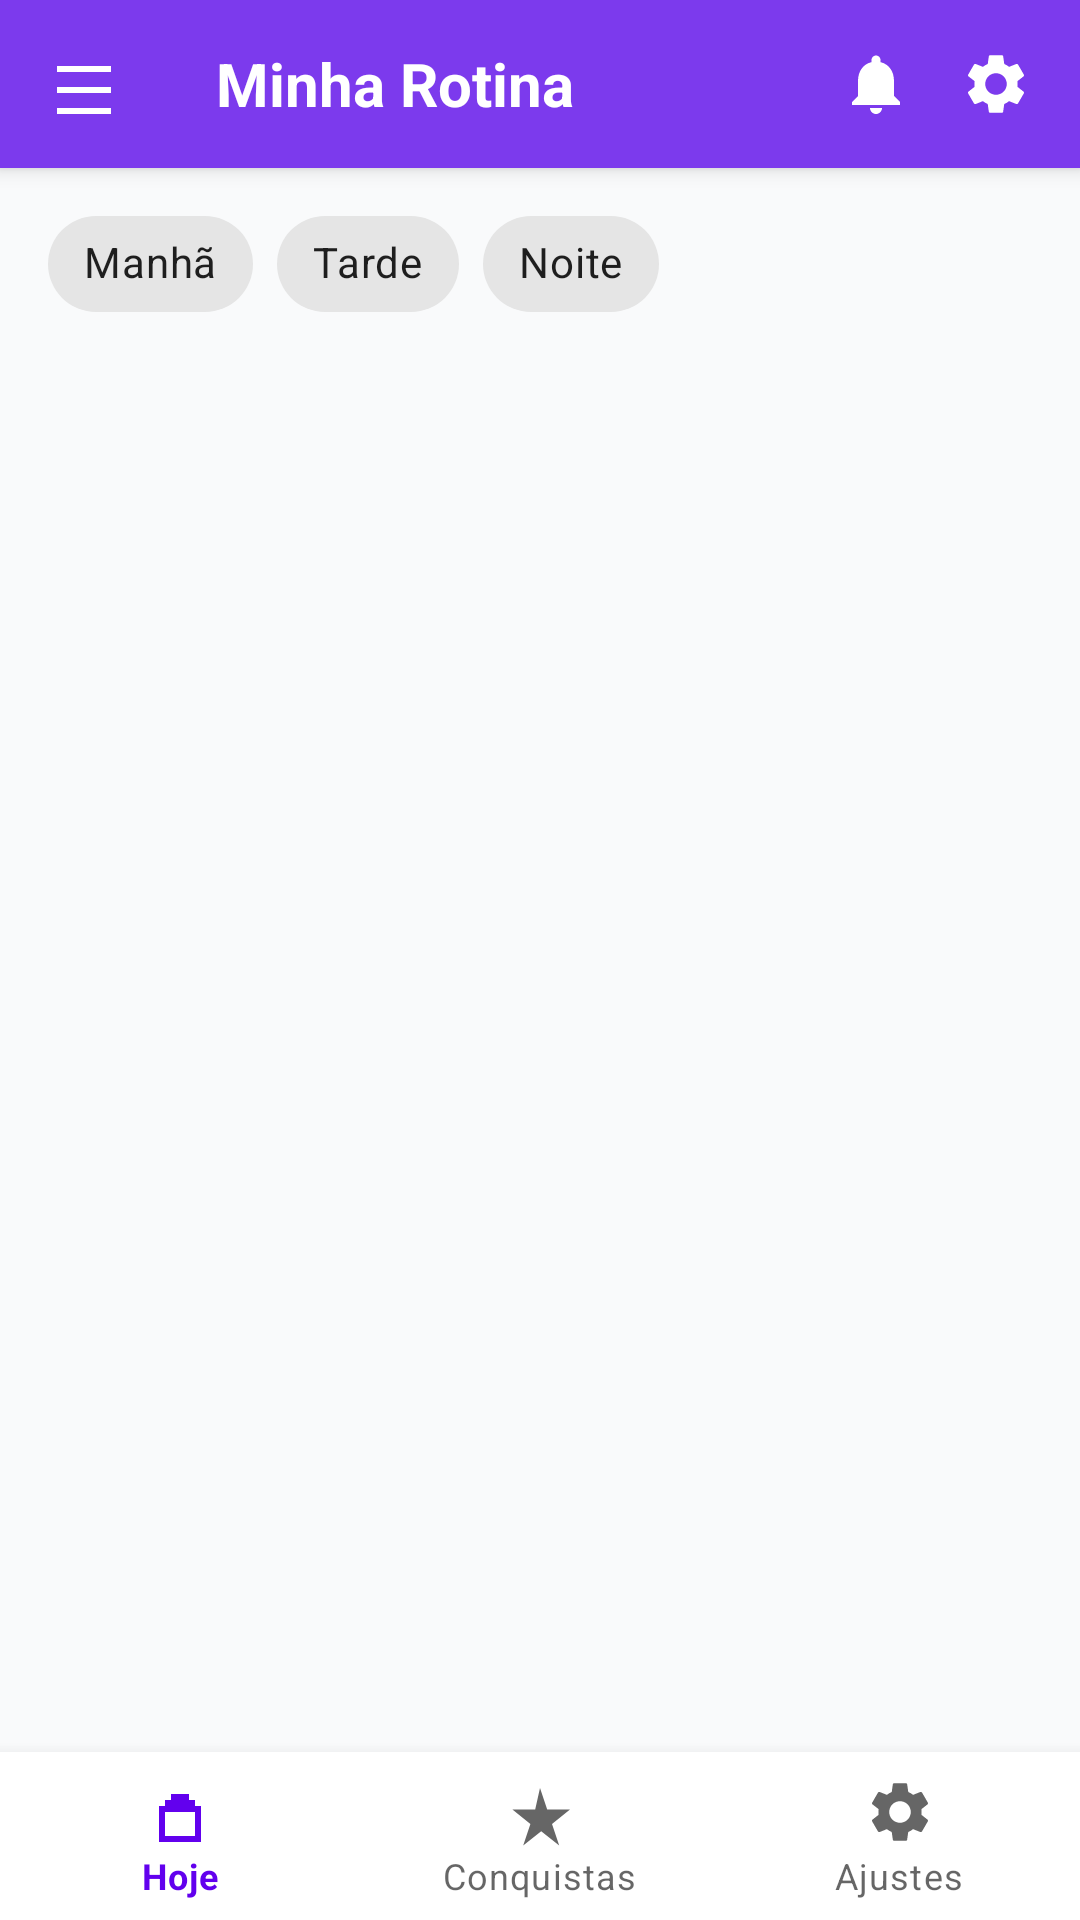

Screen size 1080px x 1920px. Icon name, then its box in pixels as detection(x1, y1, x2, y2):
menu: detection(57, 66, 111, 114)
notifications: detection(852, 55, 900, 114)
settings: detection(968, 55, 1024, 113)
